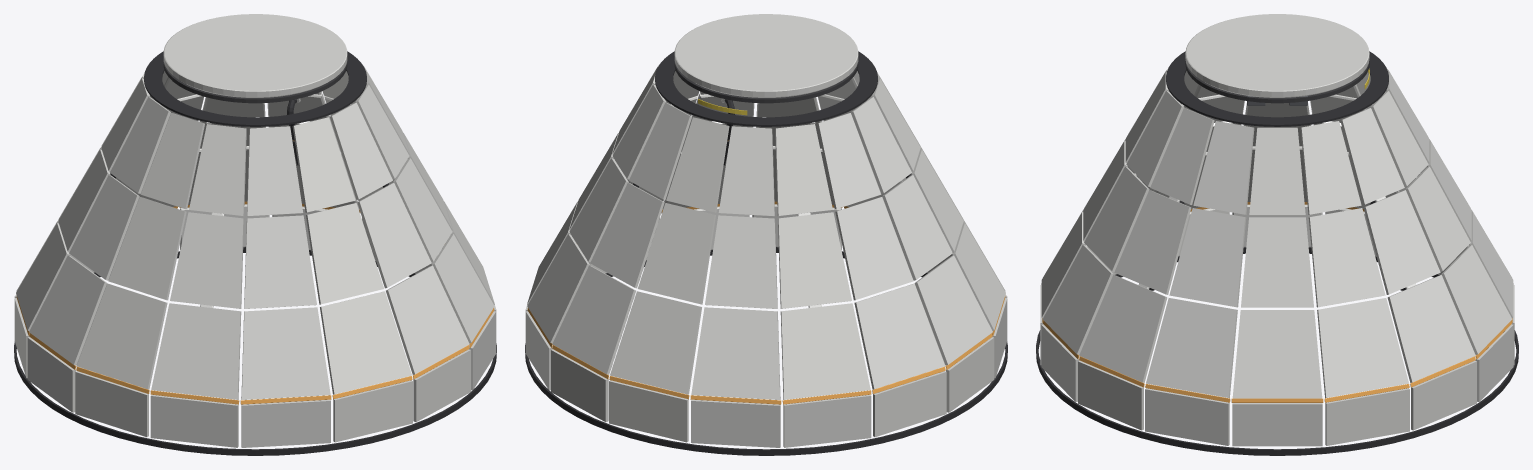
File: ax_util_04_docking_adapter_interior.glb
The picture shows the model from 3 angles, left to right: view 1: azimuth 30°, elevation 25°; view 2: azimuth 150°, elevation 25°; view 3: azimuth 270°, elevation 25°; orthographic projection.
Parts seen in each view (by area): view 1: hatch_door_1, panel_b5_f11, panel_b5_f10, panel_b5_f12, panel_b5_f09, panel_b6_f11, panel_b6_f10, panel_b6_f12, panel_b5_f13, panel_b6_f09, panel_b5_f08, panel_b6_f13 (+29 smaller); view 2: hatch_door_1, panel_b5_f05, panel_b5_f06, panel_b5_f04, panel_b5_f07, panel_b6_f05, panel_b6_f06, panel_b6_f04, panel_b5_f03, panel_b6_f07, panel_b5_f08, panel_b6_f03 (+29 smaller); view 3: hatch_door_1, panel_b5_f00, panel_b5_f01, panel_b5_f15, panel_b6_f00, panel_b5_f02, panel_b5_f14, panel_b6_f01, panel_b6_f15, panel_b6_f02, panel_b6_f14, panel_b7_f00 (+30 smaller).
Boxes of the visible parts, bbox=[...] form: hatch_door_1: bbox=[163, 14, 347, 97]; panel_b5_f11: bbox=[241, 307, 330, 399]; panel_b5_f10: bbox=[151, 303, 241, 399]; panel_b5_f12: bbox=[320, 291, 411, 394]; panel_b5_f09: bbox=[76, 283, 167, 389]; panel_b6_f11: bbox=[244, 215, 316, 308]; panel_b6_f10: bbox=[170, 212, 243, 308]; panel_b6_f12: bbox=[306, 203, 384, 304]; panel_b5_f13: bbox=[386, 265, 469, 374]; panel_b6_f09: bbox=[108, 197, 186, 300]; panel_b5_f08: bbox=[29, 255, 107, 365]; panel_b6_f13: bbox=[357, 183, 431, 288]; hatch_door_1: bbox=[674, 14, 858, 97]; panel_b5_f05: bbox=[691, 307, 780, 399]; panel_b5_f06: bbox=[780, 303, 870, 399]; panel_b5_f04: bbox=[610, 291, 701, 394]; panel_b5_f07: bbox=[854, 283, 945, 389]; panel_b6_f05: bbox=[705, 215, 777, 308]; panel_b6_f06: bbox=[778, 212, 851, 308]; panel_b6_f04: bbox=[637, 203, 715, 304]; panel_b5_f03: bbox=[552, 265, 635, 374]; panel_b6_f07: bbox=[835, 197, 913, 300]; panel_b5_f08: bbox=[914, 255, 992, 365]; panel_b6_f03: bbox=[590, 183, 664, 288]; hatch_door_1: bbox=[1185, 14, 1369, 97]; panel_b5_f00: bbox=[1232, 310, 1322, 398]; panel_b5_f01: bbox=[1317, 298, 1408, 398]; panel_b5_f15: bbox=[1146, 298, 1237, 398]; panel_b6_f00: bbox=[1241, 217, 1313, 307]; panel_b5_f02: bbox=[1387, 275, 1475, 382]; panel_b5_f14: bbox=[1079, 275, 1167, 382]; panel_b6_f01: bbox=[1308, 208, 1385, 307]; panel_b6_f15: bbox=[1169, 208, 1246, 307]; panel_b6_f02: bbox=[1363, 190, 1440, 294]; panel_b6_f14: bbox=[1114, 190, 1191, 294]; panel_b7_f00: bbox=[1249, 127, 1305, 215].
Size of the model in its own units: 2.05 by 1.41 by 2.05.
